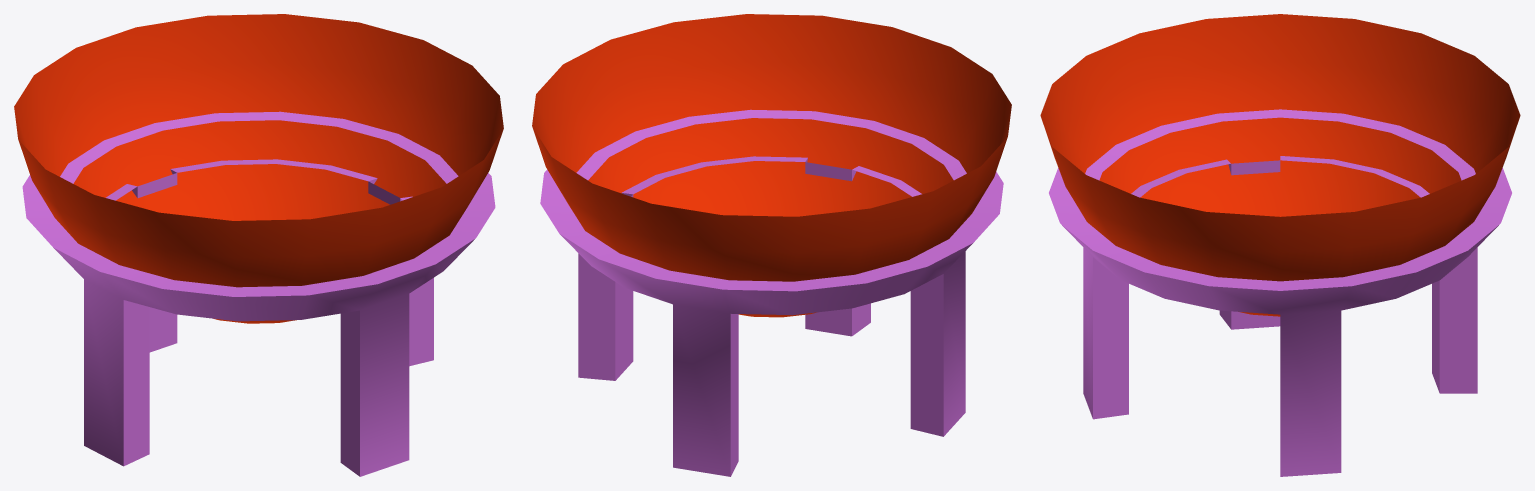
Rendered from Antorcha grande.fbx.
The picture shows the model from 3 angles, left to right: view 1: azimuth 30°, elevation 25°; view 2: azimuth 150°, elevation 25°; view 3: azimuth 270°, elevation 25°; orthographic projection. The views are drawn at different scales.
Parts seen in each view (by area): view 1: Sphere; view 2: Sphere; view 3: Sphere.
Part boxes in pixels (bbox=[...]): Sphere: bbox=[14, 14, 503, 476]; Sphere: bbox=[532, 14, 1011, 476]; Sphere: bbox=[1040, 14, 1520, 476].
Size of the model in its own units: 125 by 80.12 by 125.
